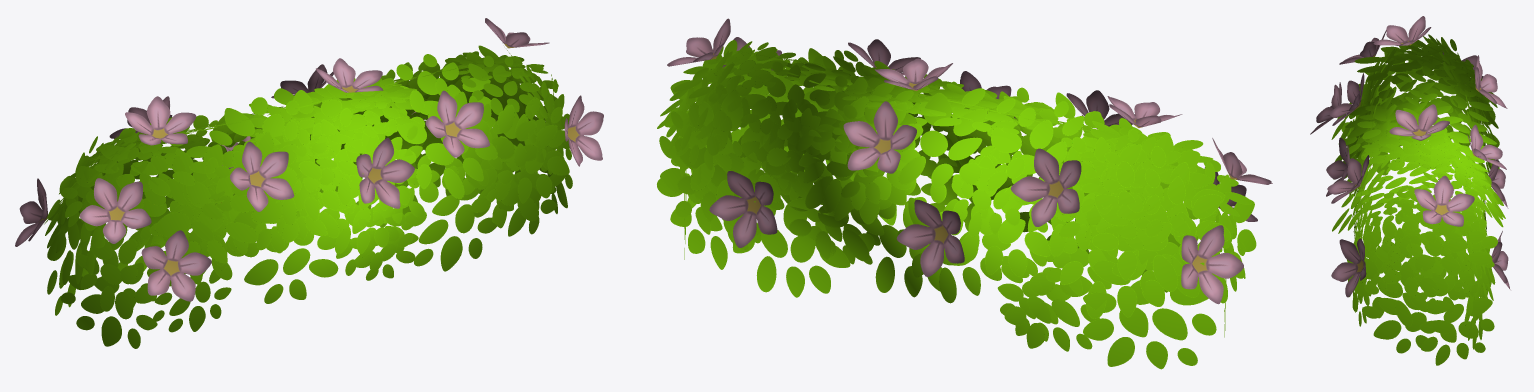
File: Bush_Small_Flowers.glb
3 renders of one model, left to right at view 1: azimuth 30°, elevation 25°; view 2: azimuth 150°, elevation 25°; view 3: azimuth 270°, elevation 25°, orthographic. The views are drawn at different scales.
Parts seen in each view (by area): view 1: Bush_Small_Flowers; view 2: Bush_Small_Flowers; view 3: Bush_Small_Flowers.
Part boxes in pixels (bbox=[...]): Bush_Small_Flowers: bbox=[15, 18, 603, 348]; Bush_Small_Flowers: bbox=[657, 18, 1272, 369]; Bush_Small_Flowers: bbox=[1310, 16, 1510, 365].
Size of the model in its own units: 1.93 by 0.8168 by 0.7617.
2 materials, 2 textured.
